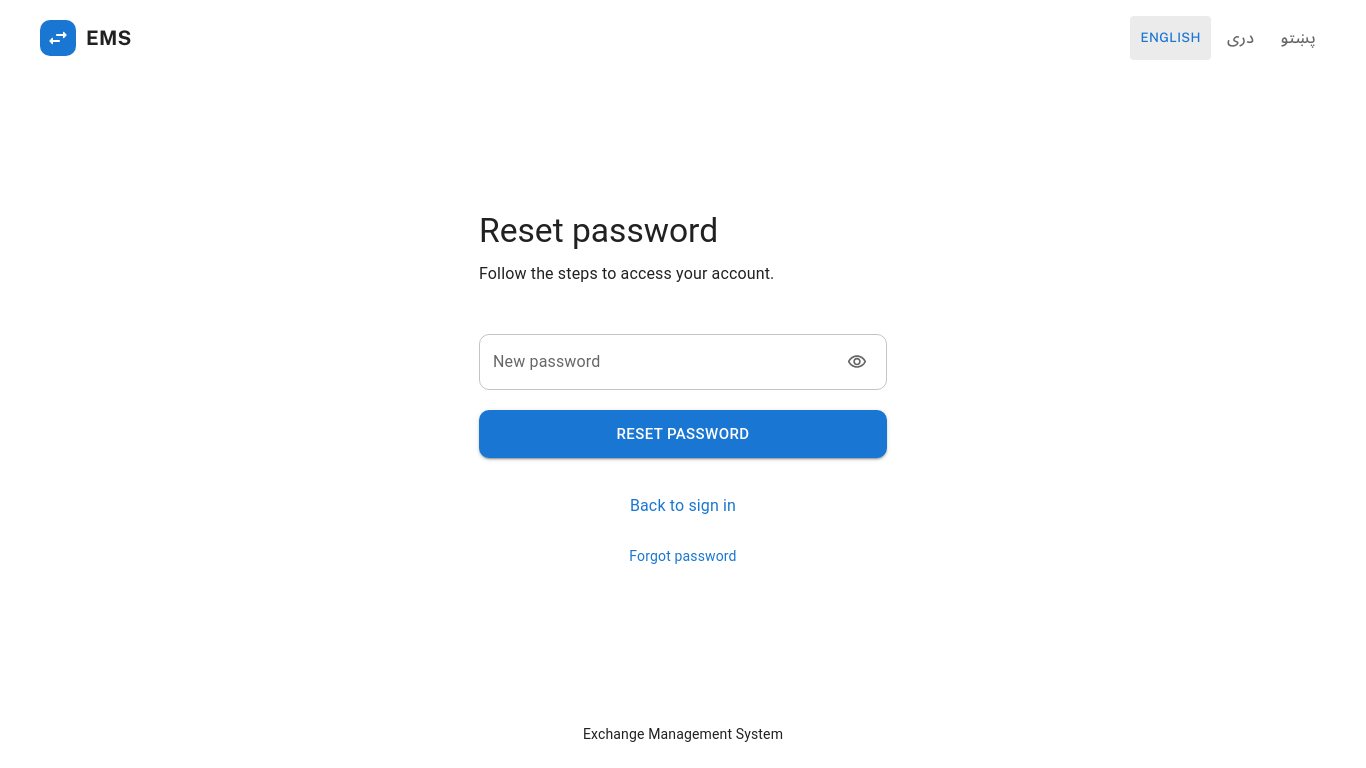
Test: reset link supplies the token and submits the actual backend fields
Check: the form named "token" holds "email-link-token", box [479,314,887,458]
In the password field labelled "New password": (653,362) [479,334,827,390], type "new-password123"
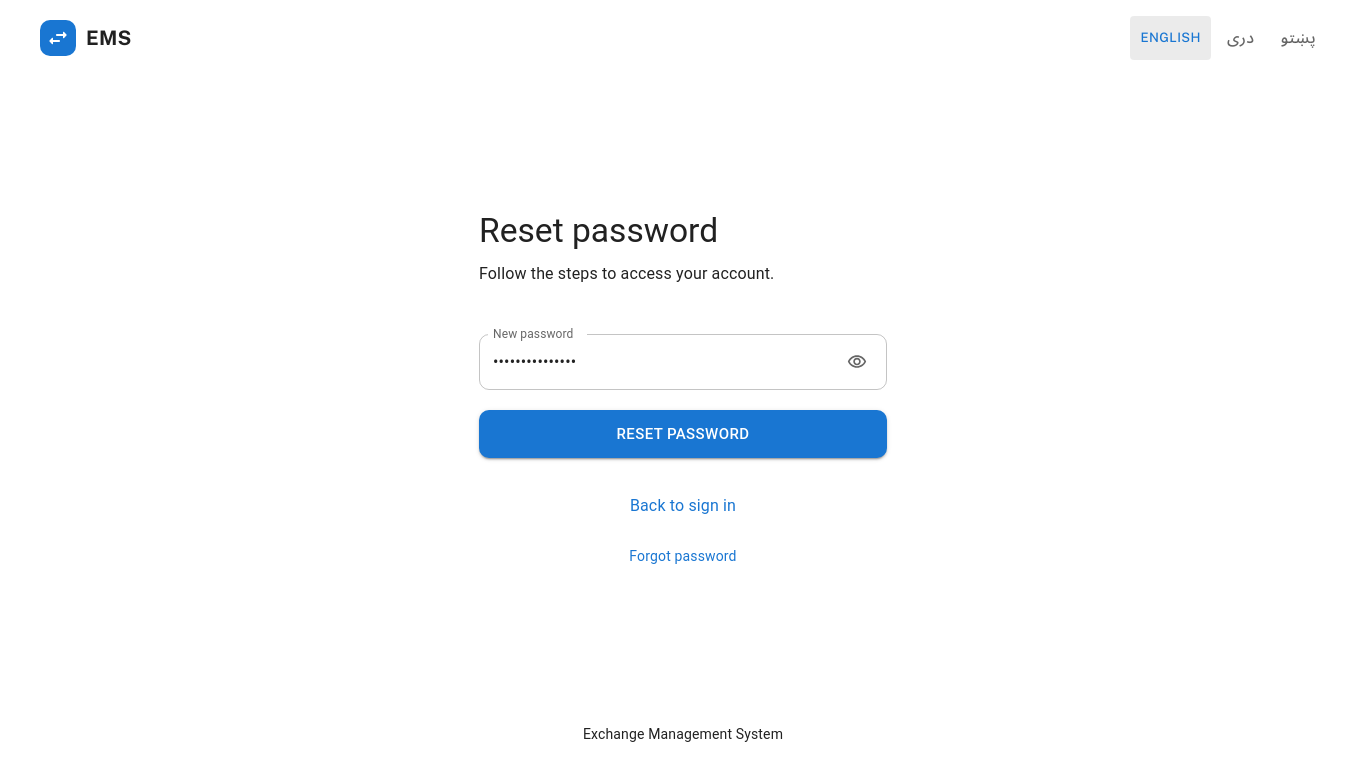
Click the button "Reset password": (683,434) [479,410,887,458]
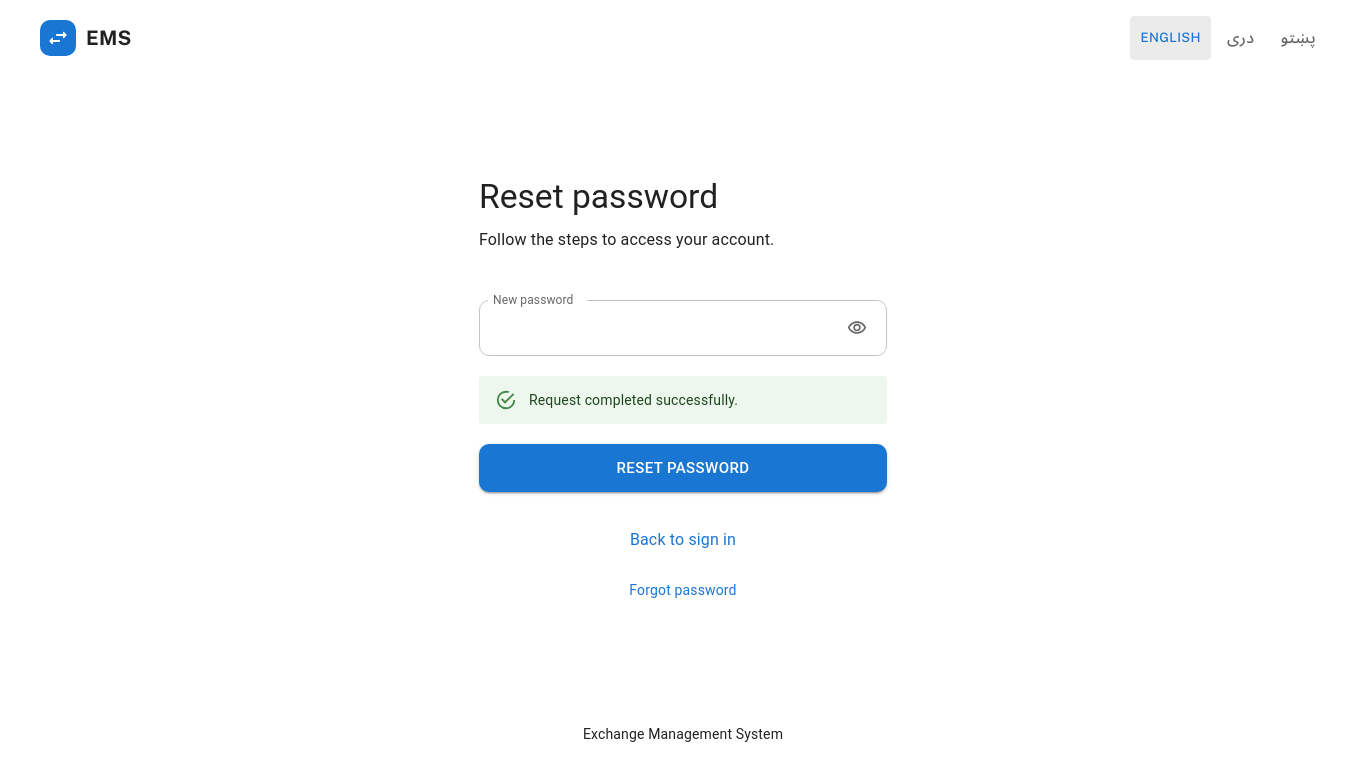
Check: the text "Request completed successfully." is shown, box [529,392,738,408]
